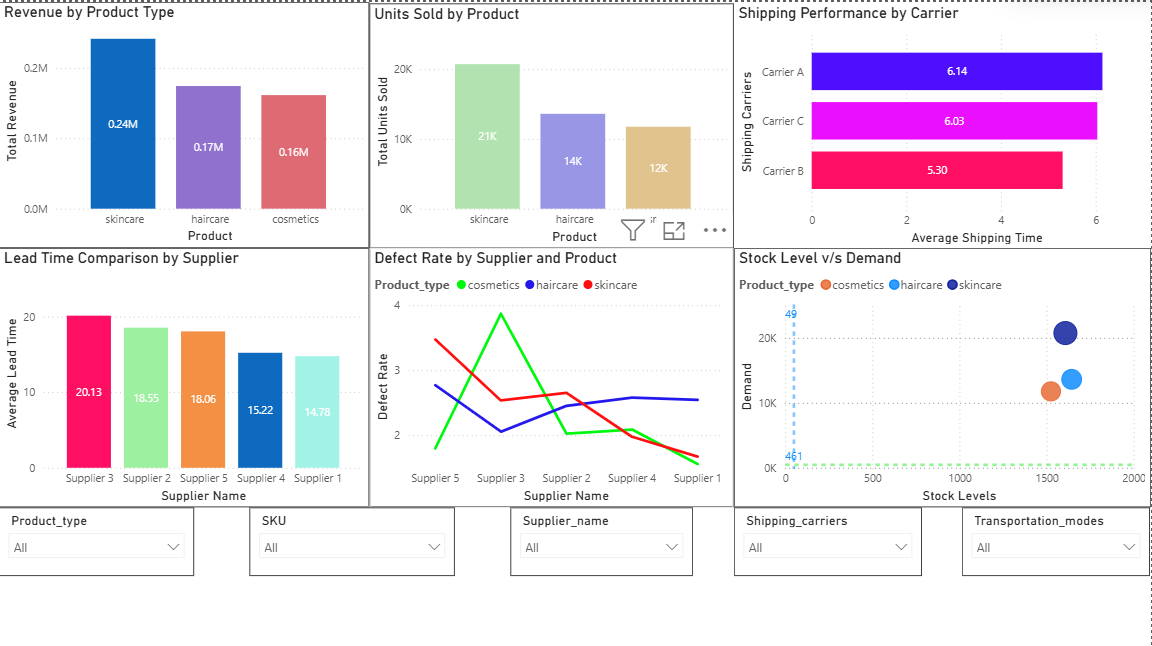

The page's visual inventory and layout, read from the dashboard file:
{"tool":"powerbi","page":{"name":"Overview","canvas":[1280,720],"ordinal":0},"visuals":[{"type":"clusteredColumnChart","title":"Revenue by Product Type","fields":{"Category":["supply_chain_table.Product_type"],"Y":["Sum(supply_chain_table.Revenue_generated)"]},"box":[0,0,411.3,273.6],"z":0},{"type":"clusteredColumnChart","title":"Units Sold by Product","fields":{"Y":["Sum(supply_chain_table.Number_of_products_sold)"],"Category":["supply_chain_table.Product_type"]},"box":[411.3,1.6,404.8,272],"z":1000},{"type":"columnChart","title":"Lead Time Comparison by Supplier","fields":{"Category":["supply_chain_table.Supplier_name"],"Y":["Avg(supply_chain_table.Lead_time)"]},"box":[0,273.6,411.3,288.2],"z":2000},{"type":"barChart","title":"Shipping Performance by Carrier","fields":{"Category":["supply_chain_table.Shipping_carriers"],"Y":["Avg(supply_chain_table.Shipping_times)"]},"box":[816.1,1.6,463.1,272],"z":3000},{"type":"lineChart","title":"Defect Rate by Supplier and Product","fields":{"Y":["Avg(supply_chain_table.Defect_rates)"],"Category":["supply_chain_table.Supplier_name"],"Series":["supply_chain_table.Product_type"]},"box":[411.3,273.6,404.8,288.2],"z":4000},{"type":"scatterChart","title":"Stock Level v/s Demand","fields":{"X":["Sum(supply_chain_table.Stock_levels)"],"Y":["Sum(supply_chain_table.Number_of_products_sold)"],"Series":["supply_chain_table.Product_type"],"Size":["Sum(supply_chain_table.Revenue_generated)"]},"box":[816.1,273.6,463.1,288.2],"z":5000},{"type":"slicer","fields":{"Values":["supply_chain_table.Product_type"]},"box":[0,561.9,217,76.1],"z":6000},{"type":"slicer","fields":{"Values":["supply_chain_table.SKU"]},"box":[278.5,561.9,228.3,76.1],"z":7000},{"type":"slicer","fields":{"Values":["supply_chain_table.Supplier_name"]},"box":[568.3,561.9,202.4,76.1],"z":8000},{"type":"slicer","fields":{"Values":["supply_chain_table.Shipping_carriers"]},"box":[816.1,561.9,208.9,76.1],"z":9000},{"type":"slicer","fields":{"Values":["supply_chain_table.Transportation_modes"]},"box":[1070.3,561.9,208.9,76.1],"z":10000}]}

Visuals, with their boxes in screenshot pixels (x1, y1, x2, y2), scaled from the page's 1280x720 canvas onto the 1152x646 screenshot:
"Revenue by Product Type" clusteredColumnChart: crop(0, 0, 370, 245)
"Units Sold by Product" clusteredColumnChart: crop(370, 1, 734, 245)
"Lead Time Comparison by Supplier" columnChart: crop(0, 245, 370, 504)
"Shipping Performance by Carrier" barChart: crop(734, 1, 1151, 245)
"Defect Rate by Supplier and Product" lineChart: crop(370, 245, 734, 504)
"Stock Level v/s Demand" scatterChart: crop(734, 245, 1151, 504)
slicer - supply_chain_table.Product_type: crop(0, 504, 195, 572)
slicer - supply_chain_table.SKU: crop(251, 504, 456, 572)
slicer - supply_chain_table.Supplier_name: crop(511, 504, 694, 572)
slicer - supply_chain_table.Shipping_carriers: crop(734, 504, 922, 572)
slicer - supply_chain_table.Transportation_modes: crop(963, 504, 1151, 572)
